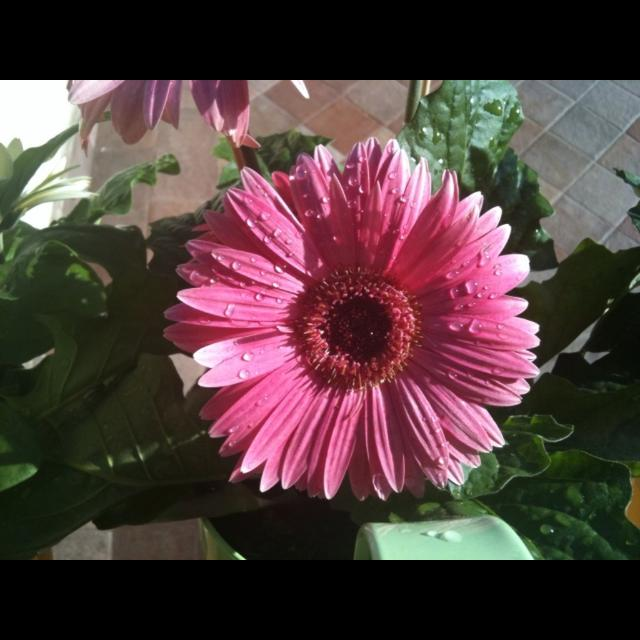Flower: (156, 151, 540, 515), (64, 80, 274, 160)
